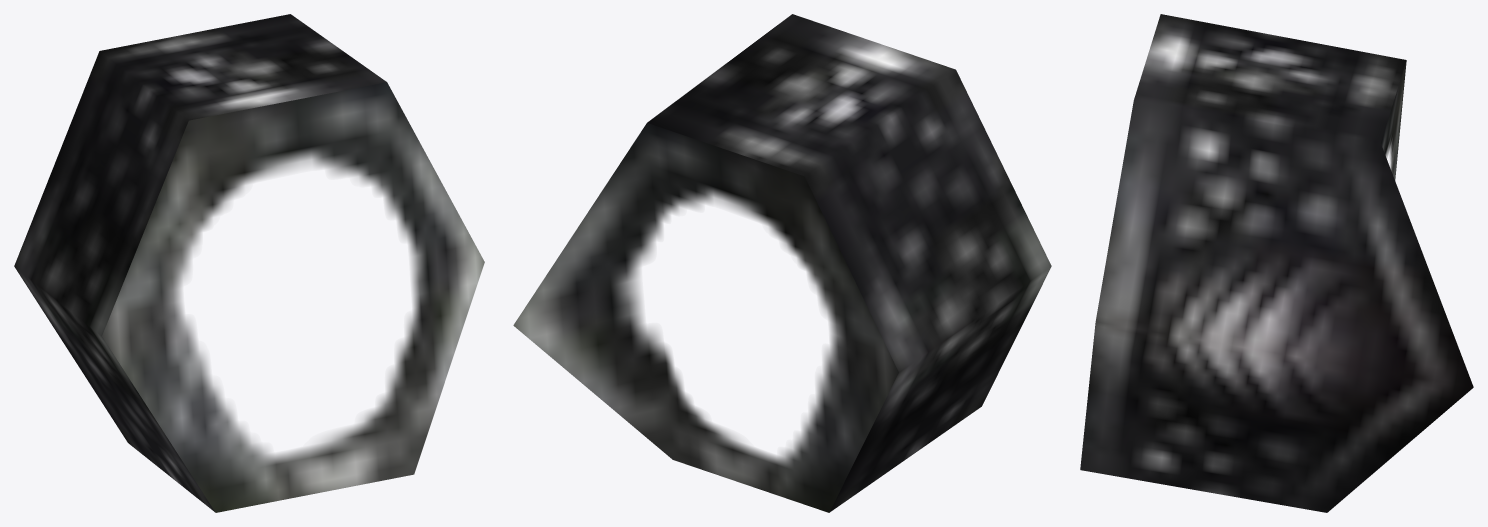
File: shadow_knight_7_wrist_left.glb
3 views of the same model, side by side, from view 1: azimuth 30°, elevation 25°; view 2: azimuth 150°, elevation 25°; view 3: azimuth 270°, elevation 25° (orthographic). The views are drawn at different scales.
Visible parts, largest first — view 1: model_shadow_knight_7_wrist_left; view 2: model_shadow_knight_7_wrist_left; view 3: model_shadow_knight_7_wrist_left.
Part boxes in pixels (bbox=[...]): model_shadow_knight_7_wrist_left: bbox=[14, 14, 484, 512]; model_shadow_knight_7_wrist_left: bbox=[513, 14, 1051, 512]; model_shadow_knight_7_wrist_left: bbox=[1080, 14, 1473, 512].
Bounding box in the file's own units: 0.1757 × 0.1704 × 0.1511.
1 material, 1 textured.
